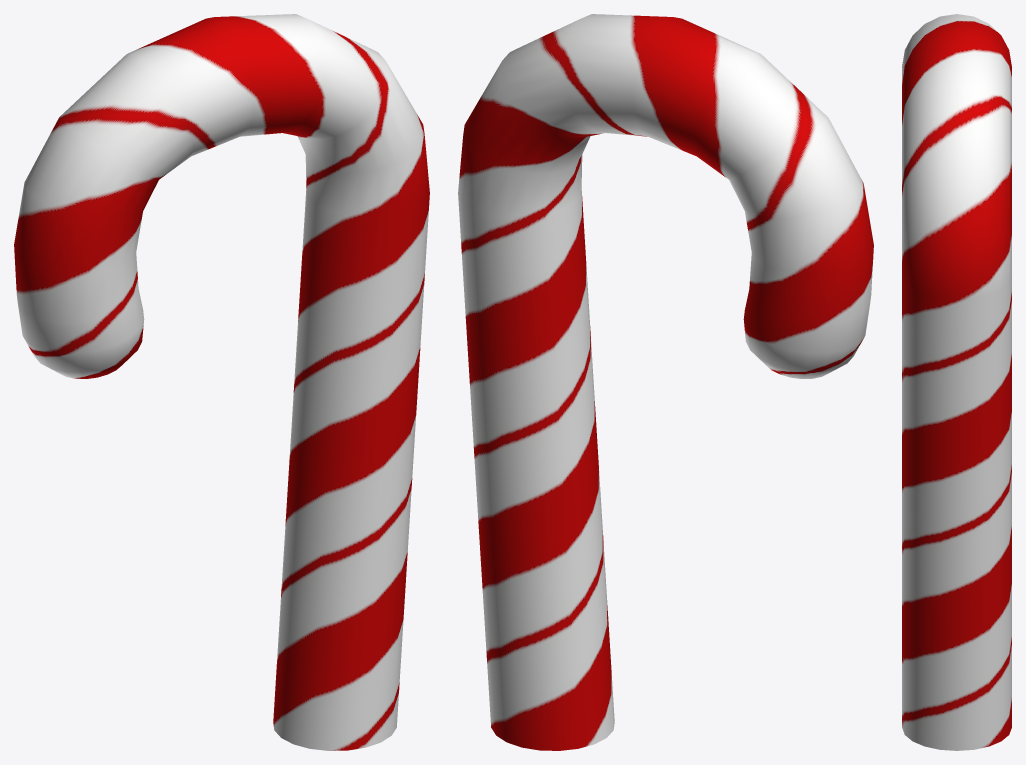
File: candy_stick.fbx
3 renders of one model, left to right at view 1: azimuth 30°, elevation 25°; view 2: azimuth 150°, elevation 25°; view 3: azimuth 270°, elevation 25°, orthographic. The views are drawn at different scales.
Visible parts, largest first — view 1: candy_stick; view 2: candy_stick; view 3: candy_stick.
Part boxes in pixels (x1,y1,x2,y2): candy_stick: (14, 14, 429, 750); candy_stick: (458, 14, 873, 750); candy_stick: (902, 14, 1011, 750).
Bounding box in the file's own units: 340 × 593 × 91.43.
1 material, 1 textured.
